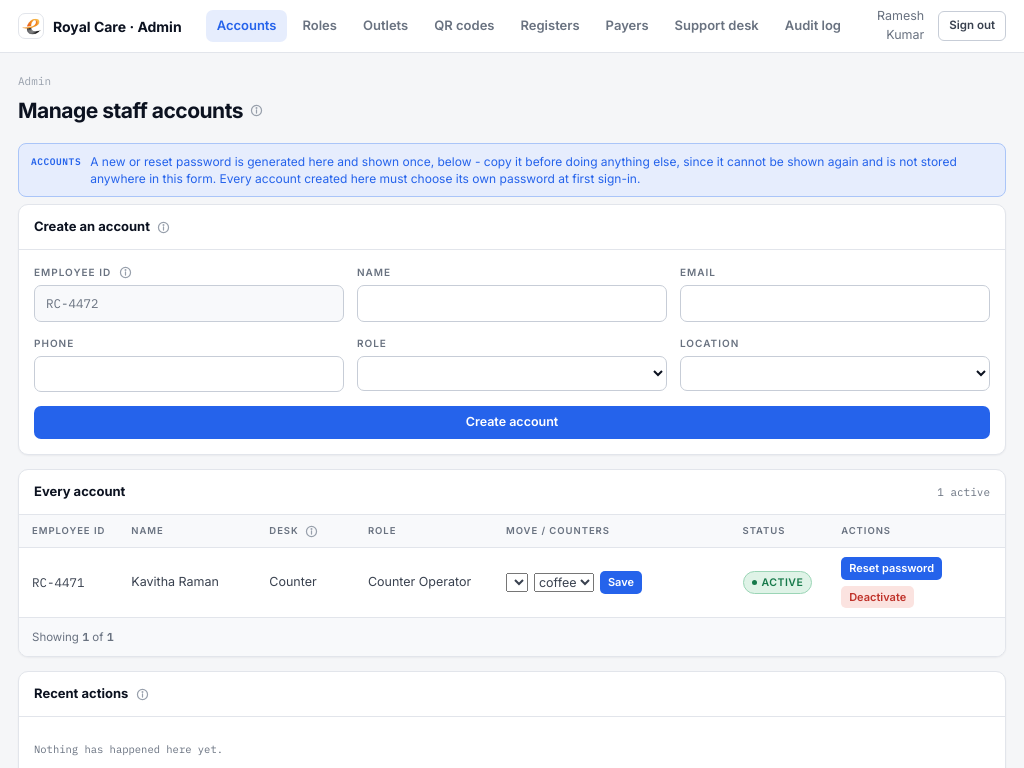
Test: an audit entry › shows where it came from and, before against after, only the fields that changed
This screenshot has width=1024, height=768.
Click the tab "Audit log" at (813, 26), box [774,10,852,42]
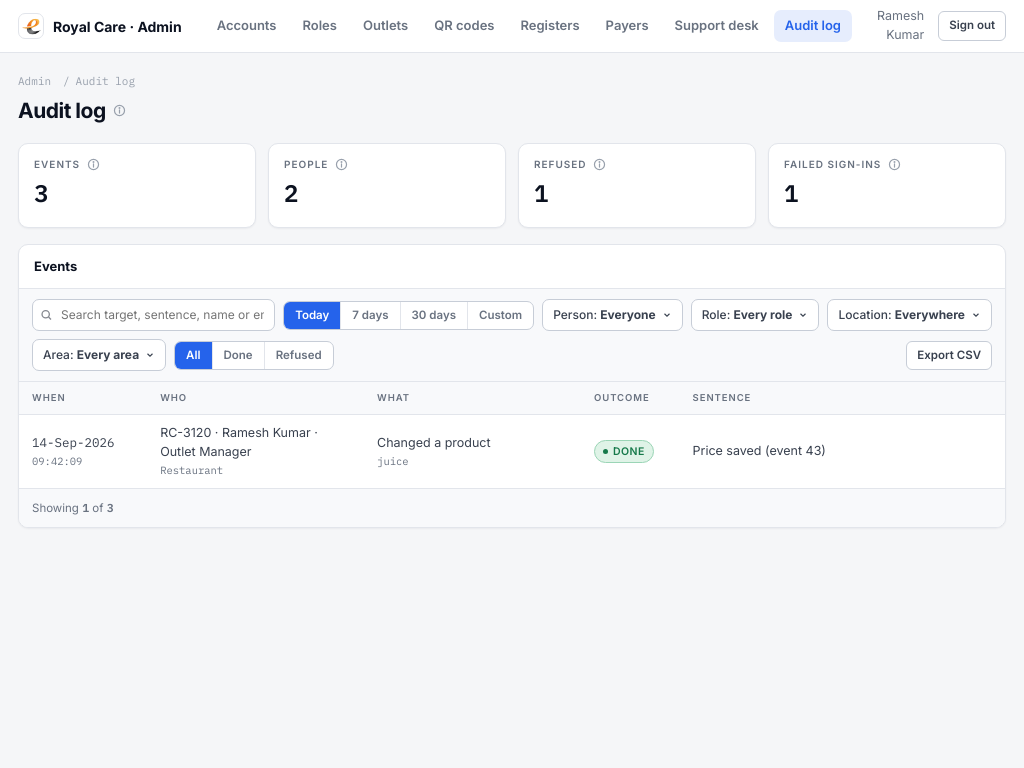
Click the row that starts with "14-Sep-2026" at (73, 442), box [19,415,1005,488]
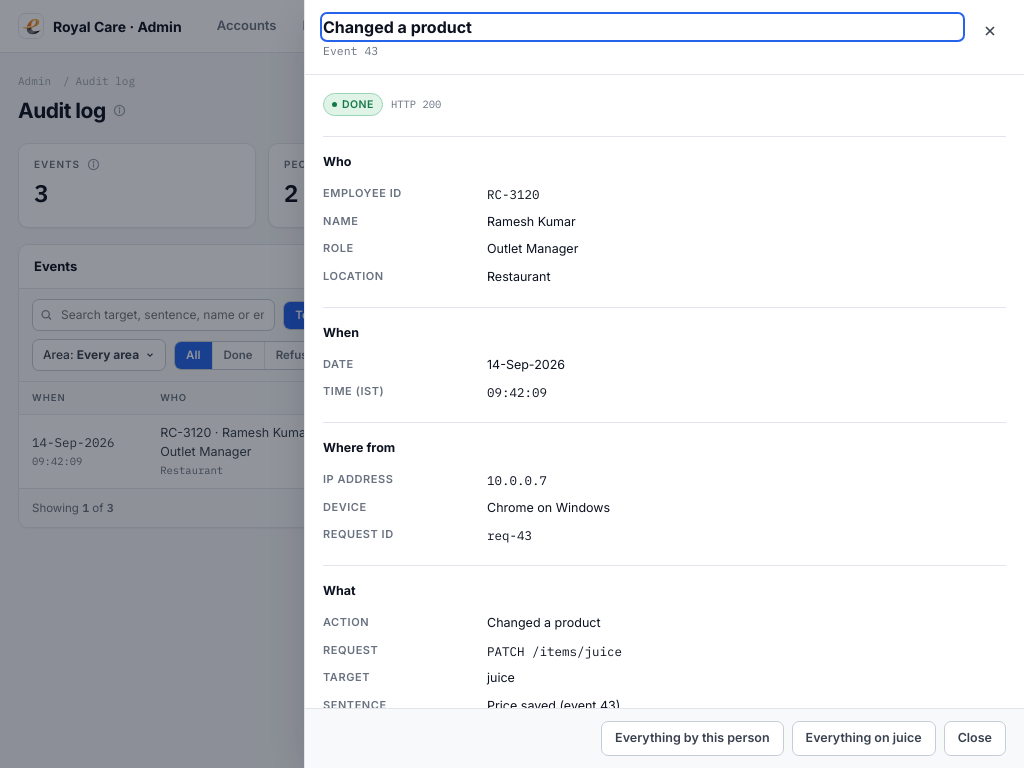
Expected: the dialog with class "drawer" shows "Chrome on Windows", [487,500,610,514]
Expected: the dialog with class "drawer" shows "10.0.0.7", [487,472,547,488]
Expected: the dialog with class "drawer" shows "req-43", [487,527,532,543]
